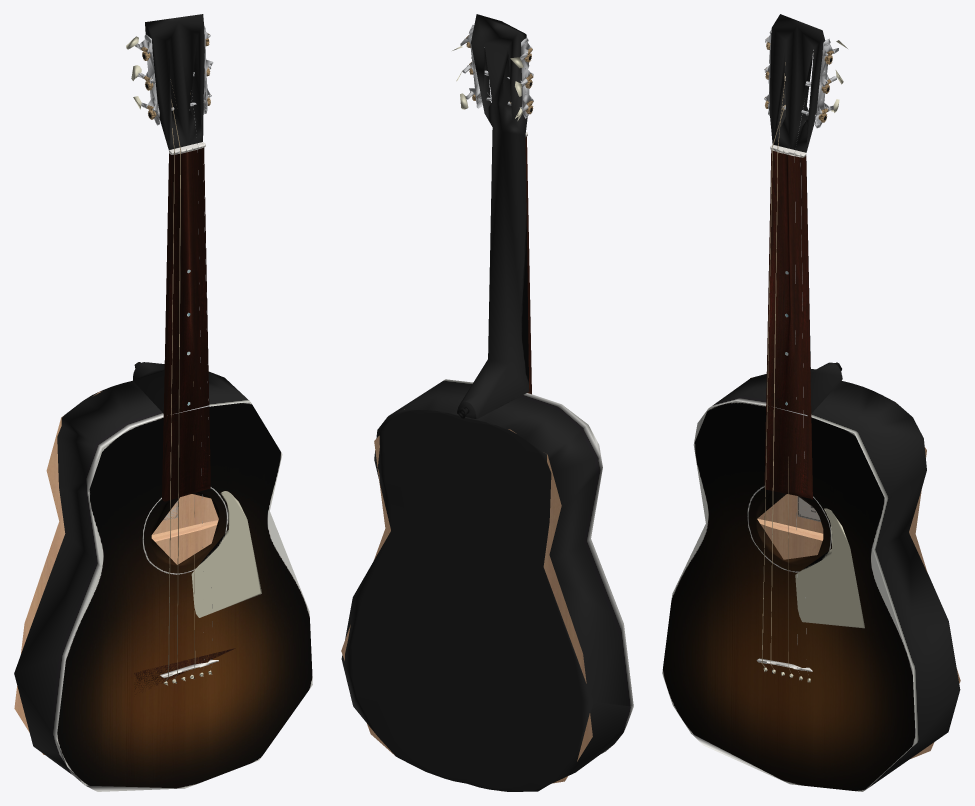
File: guitar.glb
The picture shows the model from 3 angles, left to right: view 1: azimuth 30°, elevation 25°; view 2: azimuth 150°, elevation 25°; view 3: azimuth 330°, elevation 25°; orthographic projection. The views are drawn at different scales.
Parts seen in each view (by area): view 1: parlourGuitar, parlourGuitar.string.A, parlourGuitar.string.E; view 2: parlourGuitar; view 3: parlourGuitar, parlourGuitar.string.A, parlourGuitar.string.E.
Part boxes in pixels (x1,y1,x2,y2): parlourGuitar: (14, 14, 312, 791); parlourGuitar.string.A: (171, 99, 180, 679); parlourGuitar.string.E: (165, 128, 174, 681); parlourGuitar: (341, 14, 633, 791); parlourGuitar: (662, 14, 960, 791); parlourGuitar.string.A: (770, 76, 785, 669); parlourGuitar.string.E: (761, 105, 785, 667).
Size of the model in its own units: 0.3304 by 0.9357 by 0.1181.
Materials: 3 (1 with a texture image).
